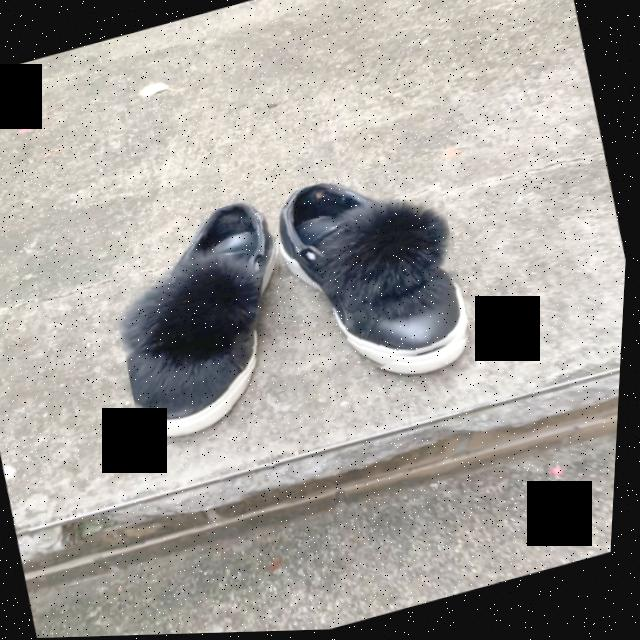shoe: (127, 203, 277, 441), (281, 185, 469, 356)
